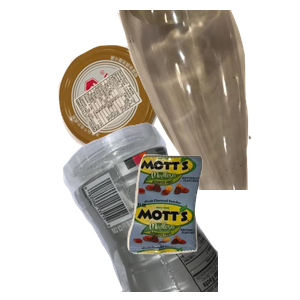glass: (115, 10, 300, 190)
metal: (56, 43, 211, 187)
plastic: (60, 120, 300, 300)
trash: (125, 152, 300, 300)
